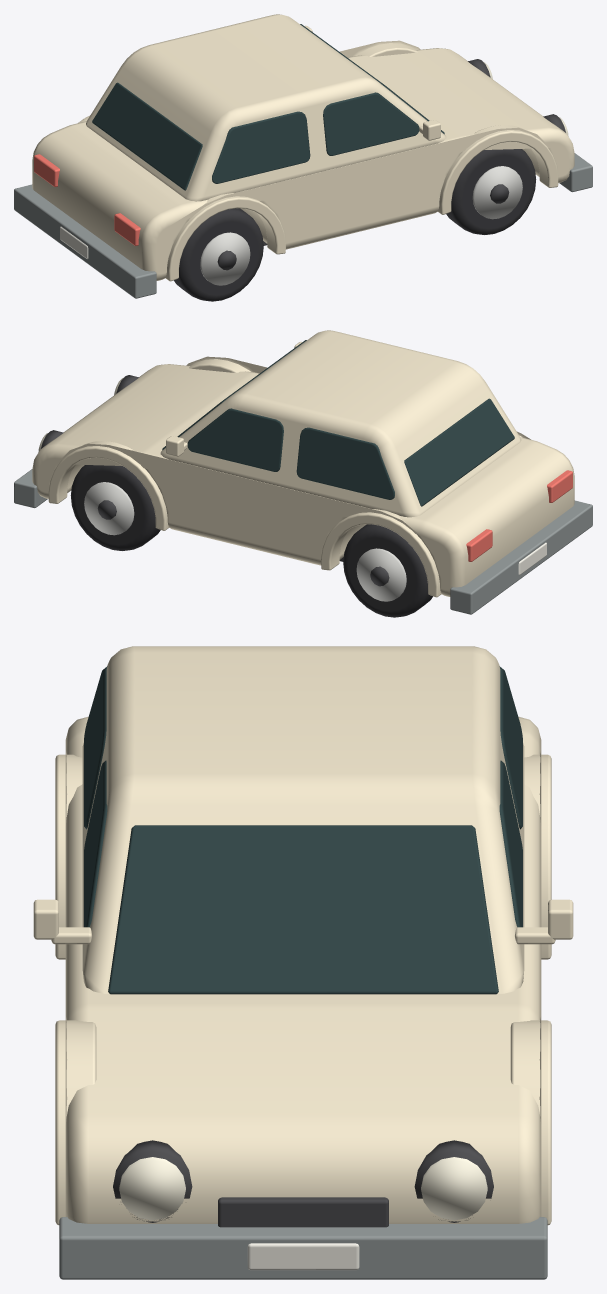
The model's file is sedan_cream.glb.
3 views of the same model, one above another, from view 1: azimuth 30°, elevation 25°; view 2: azimuth 150°, elevation 25°; view 3: azimuth 270°, elevation 25° (orthographic). The views are drawn at different scales.
Parts seen in each view (by area): view 1: sedan_cream_body, sedan_cream_glass, sedan_cream_trim, sedan_cream_wheels, sedan_cream_round; view 2: sedan_cream_body, sedan_cream_glass, sedan_cream_trim, sedan_cream_wheels, sedan_cream_round; view 3: sedan_cream_body, sedan_cream_glass, sedan_cream_trim, sedan_cream_round.
Boxes of the visible parts, box(x1,y1,x2,y2) form: sedan_cream_body: box(32, 14, 574, 280); sedan_cream_glass: box(92, 24, 444, 190); sedan_cream_trim: box(14, 25, 592, 298); sedan_cream_wheels: box(174, 149, 536, 301); sedan_cream_round: box(200, 59, 568, 285); sedan_cream_body: box(32, 330, 574, 596); sedan_cream_glass: box(162, 340, 514, 506); sedan_cream_trim: box(14, 341, 592, 614); sedan_cream_wheels: box(70, 465, 432, 617); sedan_cream_round: box(38, 375, 406, 601); sedan_cream_body: box(65, 646, 541, 1223); sedan_cream_glass: box(84, 666, 522, 994); sedan_cream_trim: box(33, 754, 573, 1279); sedan_cream_round: box(113, 1140, 493, 1222).
Size of the model in its own units: 4.16 by 1.53 by 2.11.
